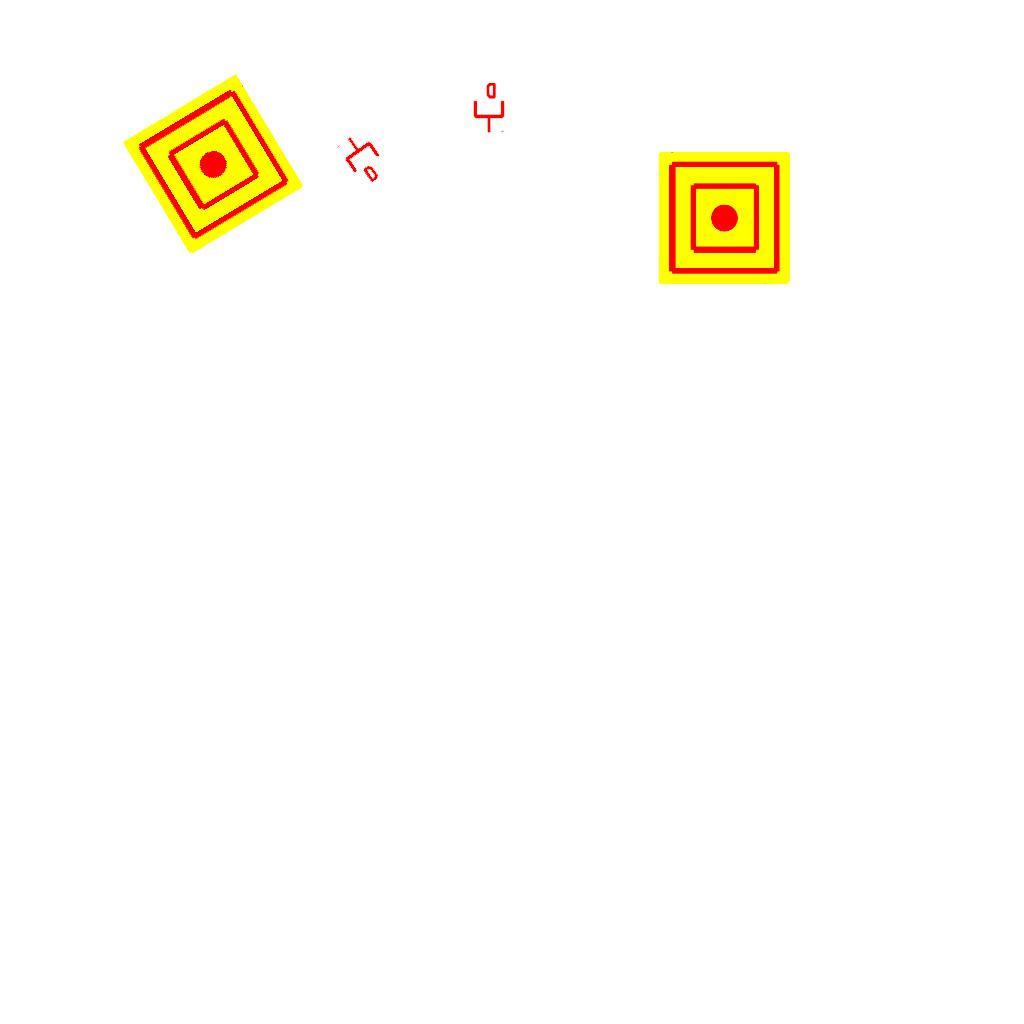Datenanschluss_einfach: (334, 127, 392, 189), (472, 83, 506, 133)
NAM-Nichtautomatischer_Melder: (122, 73, 304, 255), (658, 152, 790, 284)
